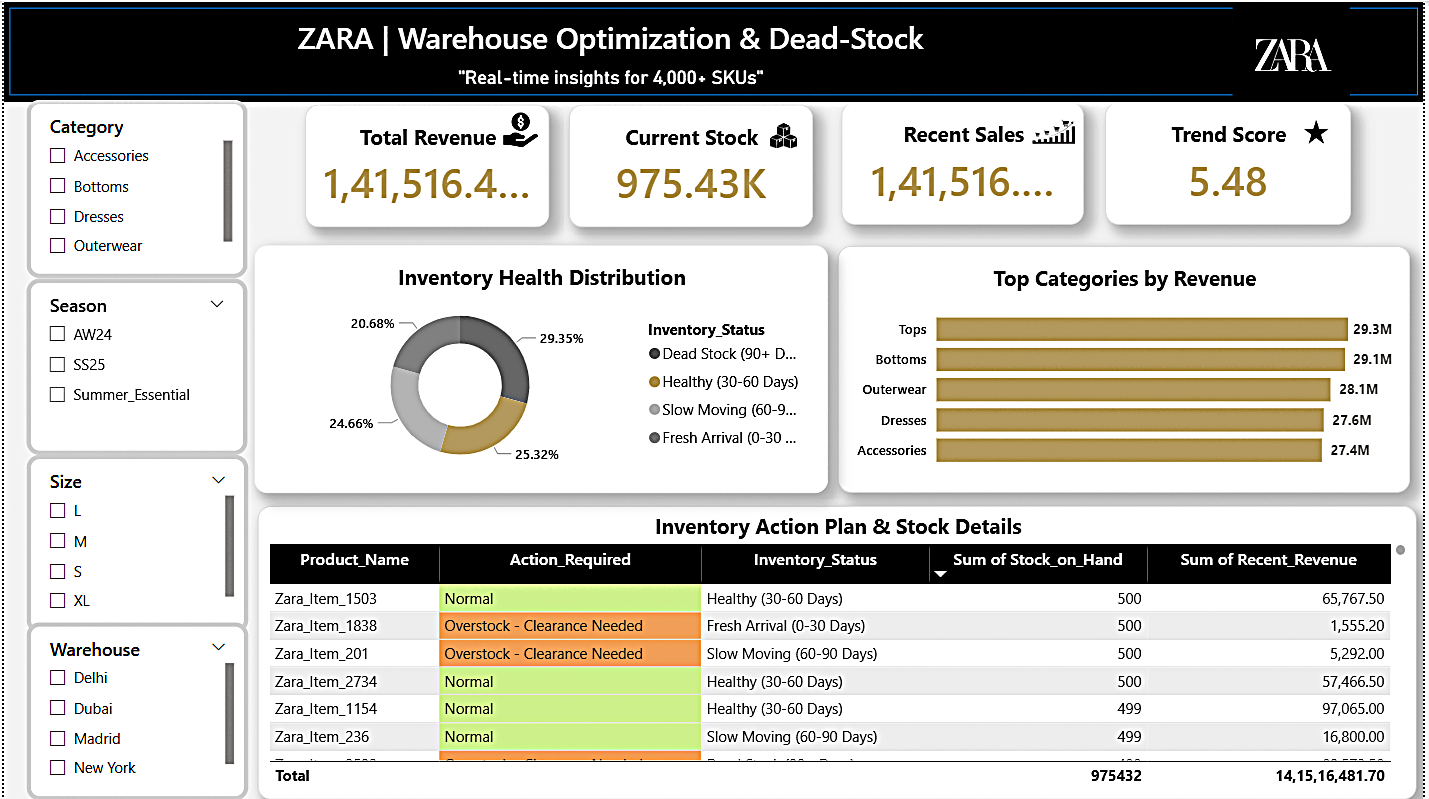

The page's visual inventory and layout, read from the dashboard file:
{"tool":"powerbi","page":{"name":"Page 1","canvas":[1280,720],"ordinal":0},"visuals":[{"type":"shape","box":[0,1.2,1280.3,89.3],"z":0},{"type":"slicer","fields":{"Values":["zara_inventory_data.Category"]},"box":[20,89.2,199,160.5],"z":1000},{"type":"textbox","title":"ZARA | Warehouse Optimization & Dead-Stock ","box":[9.8,14.7,1073.6,64.8],"z":2000},{"type":"slicer","fields":{"Values":["zara_inventory_data.Season"]},"box":[20,249.7,199,159.2],"z":3000},{"type":"slicer","fields":{"Values":["zara_inventory_data.Size"]},"box":[20,408.9,200.3,160.5],"z":4000},{"type":"card","title":"Total Revenue","fields":{"Values":["Sum(zara_inventory_data.Recent_Revenue)"]},"box":[271.5,93.1,220,110],"z":5000},{"type":"slicer","fields":{"Values":["zara_inventory_data.Warehouse_Location"]},"box":[20,559.9,200.3,160.5],"z":6000},{"type":"card","title":"Trend Score","fields":{"Values":["Avg(zara_inventory_data.Trend_Score)"]},"box":[992.5,91.2,221.2,110],"z":7000},{"type":"image","box":[441.2,96.2,50,41.2],"z":8000},{"type":"image","box":[1155,95,56.2,46.2],"z":9000},{"type":"card","title":"Recent Sales","fields":{"Values":["Sum(zara_inventory_data.Recent_Revenue)"]},"box":[755,91.2,218.8,110],"z":10000},{"type":"barChart","title":"Top Categories by Revenue","fields":{"Category":["zara_inventory_data.Category"],"Y":["Sum(zara_inventory_data.Recent_Revenue)"]},"box":[751.2,221.2,516.2,222.5],"z":11000},{"type":"tableEx","title":"Inventory Action Plan & Stock Details","fields":{"Values":["zara_inventory_data.Product_Name","zara_inventory_data.Action_Required","zara_inventory_data.Inventory_Status","Sum(zara_inventory_data.Stock_on_Hand)","Sum(zara_inventory_data.Recent_Revenue)"]},"box":[228.8,455,1045,265],"z":12000},{"type":"textbox","title":"\"Real-time insights for 4,000+ SKUs\"","box":[295.9,58.7,501.4,20.8],"z":13000},{"type":"donutChart","title":"Inventory Health Distribution","fields":{"Y":["Sum(zara_inventory_data.Stock_on_Hand)"],"Category":["zara_inventory_data.Inventory_Status"]},"box":[225,220,517.5,223.8],"z":14000},{"type":"image","box":[1041.2,0,238.8,95],"z":15000},{"type":"card","title":"Current Stock","fields":{"Values":["Sum(zara_inventory_data.Stock_on_Hand)"]},"box":[510,93.8,220,110],"z":16000},{"type":"image","box":[676.2,95,53.8,53.8],"z":17000},{"type":"image","box":[920,93.8,53.8,48.8],"z":18000}]}

Visuals, with their boxes in screenshot pixels (x1, y1, x2, y2), scaled from the page's 1280x720 canvas onto the 1429x799 screenshot:
shape: (x1=0, y1=1, x2=1428, y2=100)
slicer - zara_inventory_data.Category: (x1=22, y1=99, x2=244, y2=277)
"ZARA | Warehouse Optimization & Dead-Stock " textbox: (x1=11, y1=16, x2=1210, y2=88)
slicer - zara_inventory_data.Season: (x1=22, y1=277, x2=244, y2=454)
slicer - zara_inventory_data.Size: (x1=22, y1=454, x2=246, y2=632)
"Total Revenue" card: (x1=303, y1=103, x2=549, y2=225)
slicer - zara_inventory_data.Warehouse_Location: (x1=22, y1=621, x2=246, y2=798)
"Trend Score" card: (x1=1108, y1=101, x2=1355, y2=223)
image: (x1=493, y1=107, x2=548, y2=152)
image: (x1=1289, y1=105, x2=1352, y2=157)
"Recent Sales" card: (x1=843, y1=101, x2=1087, y2=223)
"Top Categories by Revenue" barChart: (x1=839, y1=245, x2=1415, y2=492)
"Inventory Action Plan & Stock Details" tableEx: (x1=255, y1=505, x2=1422, y2=798)
""Real-time insights for 4,000+ SKUs"" textbox: (x1=330, y1=65, x2=890, y2=88)
"Inventory Health Distribution" donutChart: (x1=251, y1=244, x2=829, y2=492)
image: (x1=1162, y1=0, x2=1428, y2=105)
"Current Stock" card: (x1=569, y1=104, x2=815, y2=226)
image: (x1=755, y1=105, x2=815, y2=165)
image: (x1=1027, y1=104, x2=1087, y2=158)
